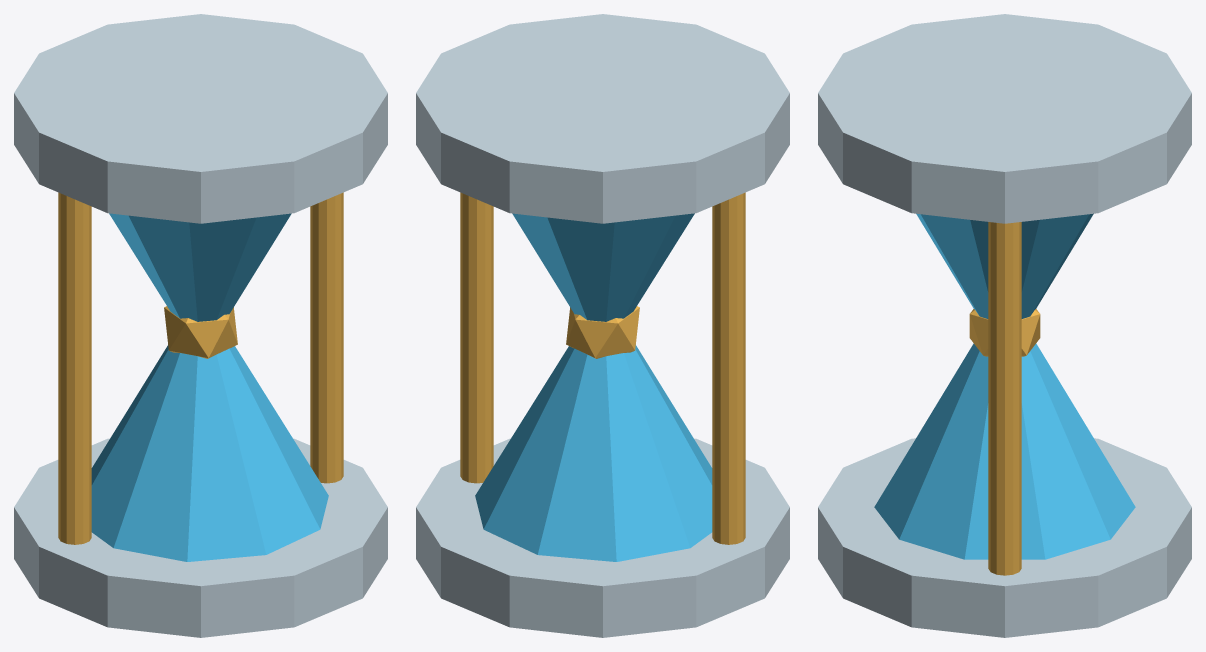
The model's file is still-hourglass-1.glb.
3 views of the same model, side by side, from view 1: azimuth 30°, elevation 25°; view 2: azimuth 150°, elevation 25°; view 3: azimuth 270°, elevation 25° (orthographic).
Parts seen in each view (by area): view 1: Cylinder.001, Cone, Cylinder, Cylinder.002, Cone.001, Cylinder.003, Icosphere; view 2: Cylinder.001, Cone, Cylinder, Cylinder.002, Cone.001, Cylinder.003, Icosphere; view 3: Cylinder.001, Cylinder, Cone, Cylinder.003, Cone.001, Icosphere.
Part boxes in pixels (bbox=[...]): Cylinder.001: bbox=[14, 14, 387, 223]; Cone: bbox=[91, 345, 328, 561]; Cylinder: bbox=[14, 438, 387, 637]; Cylinder.002: bbox=[58, 192, 91, 544]; Cone.001: bbox=[109, 213, 291, 321]; Cylinder.003: bbox=[310, 192, 343, 483]; Icosphere: bbox=[164, 306, 237, 358]; Cylinder.001: bbox=[416, 14, 789, 223]; Cone: bbox=[475, 345, 712, 561]; Cylinder: bbox=[416, 438, 789, 637]; Cylinder.002: bbox=[712, 192, 745, 544]; Cone.001: bbox=[512, 213, 694, 321]; Cylinder.003: bbox=[460, 192, 493, 483]; Icosphere: bbox=[566, 306, 639, 358]; Cylinder.001: bbox=[818, 14, 1191, 223]; Cylinder: bbox=[818, 438, 1191, 637]; Cone: bbox=[874, 343, 1135, 559]; Cylinder.003: bbox=[988, 222, 1021, 575]; Cone.001: bbox=[916, 213, 1093, 318]; Icosphere: bbox=[969, 309, 1040, 356].
Size of the model in its own units: 0.36 by 0.495 by 0.36.
